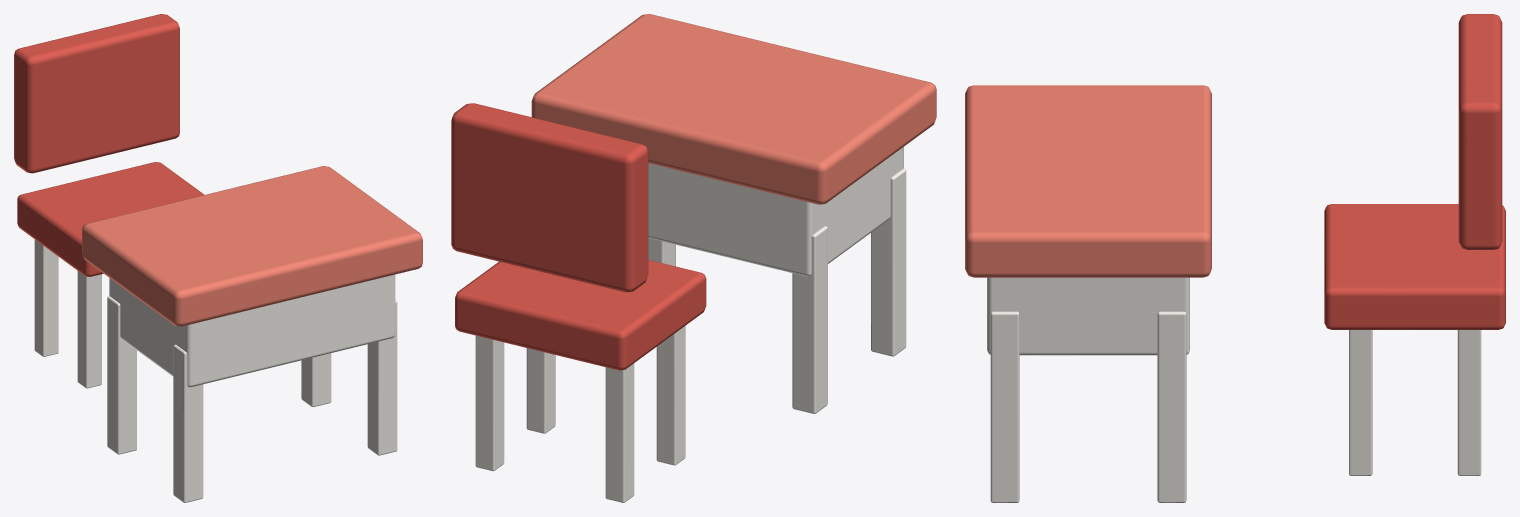
Rendered from school-student-desk.glb.
The picture shows the model from 3 angles, left to right: view 1: azimuth 30°, elevation 25°; view 2: azimuth 150°, elevation 25°; view 3: azimuth 270°, elevation 25°; orthographic projection. The views are drawn at different scales.
Visible parts, largest first — view 1: desk-top, chair-back, desk-box, chair-seat, desk-leg--0.39-0.23, desk-leg--0.39--0.23, desk-leg-0.39-0.23, chair-leg--0.22-0.15, chair-leg--0.22--0.15, desk-leg-0.39--0.23; view 2: desk-top, chair-back, chair-seat, desk-box, desk-leg--0.39--0.23, desk-leg--0.39-0.23, chair-leg--0.22--0.15, chair-leg-0.22--0.15, chair-leg--0.22-0.15, chair-leg-0.22-0.15, desk-leg-0.39-0.23; view 3: desk-top, chair-seat, desk-box, chair-back, desk-leg-0.39--0.23, desk-leg-0.39-0.23, chair-leg-0.22--0.15, chair-leg-0.22-0.15.
Boxes of the visible parts, x1,y1,x2,y2 form: desk-top: (82,166,422,326); chair-back: (14,14,179,173); desk-box: (109,274,395,387); chair-seat: (17,162,204,276); desk-leg--0.39-0.23: (173,344,203,502); desk-leg--0.39--0.23: (107,296,136,454); desk-leg-0.39-0.23: (367,300,397,455); chair-leg--0.22-0.15: (77,271,101,388); chair-leg--0.22--0.15: (34,239,58,356); desk-leg-0.39--0.23: (301,353,331,407); desk-top: (531,14,936,204); chair-back: (451,103,648,292); chair-seat: (455,260,706,370); desk-box: (648,147,903,276); desk-leg--0.39--0.23: (792,226,827,413); desk-leg--0.39-0.23: (871,168,906,356); chair-leg--0.22--0.15: (605,363,634,502); chair-leg-0.22--0.15: (475,335,504,471); chair-leg--0.22-0.15: (656,326,685,465); chair-leg-0.22-0.15: (526,348,555,433); desk-leg-0.39-0.23: (648,238,675,266); desk-top: (965,85,1211,277); chair-seat: (1324,204,1505,329); desk-box: (987,277,1189,355); chair-back: (1458,14,1502,249); desk-leg-0.39--0.23: (1157,311,1186,502); desk-leg-0.39-0.23: (990,311,1019,502); chair-leg-0.22--0.15: (1457,330,1481,475); chair-leg-0.22-0.15: (1349,330,1372,475).
Bounding box in the file's own units: 1 × 1.15 × 1.49.
